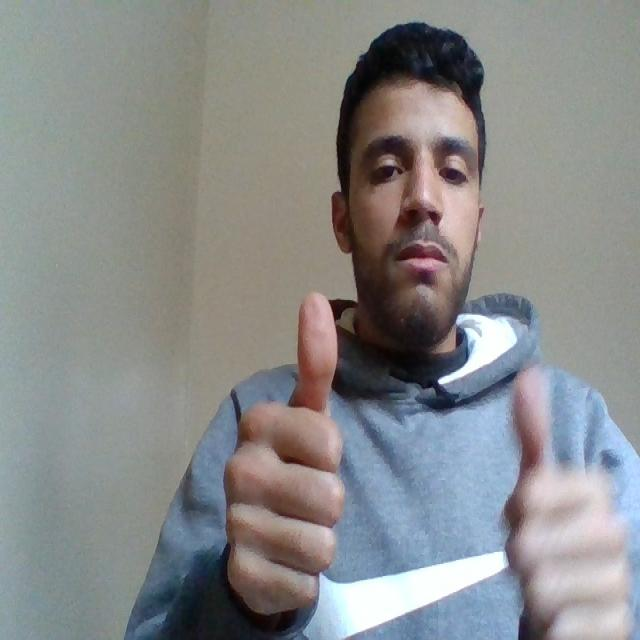Yes: (219, 287, 354, 624), (497, 356, 638, 639)
